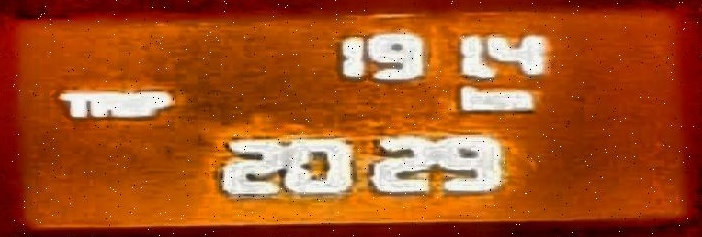-: (479, 65, 496, 78)
0: (280, 136, 354, 195)
1: (335, 35, 364, 79), (455, 32, 482, 78)
2: (216, 136, 281, 196), (368, 134, 431, 195)
4: (483, 31, 550, 76)
9: (432, 134, 506, 194), (364, 31, 426, 82)
X: (491, 87, 532, 113), (55, 91, 92, 119), (138, 88, 172, 117), (459, 85, 490, 113), (94, 89, 124, 117), (123, 88, 135, 120)
